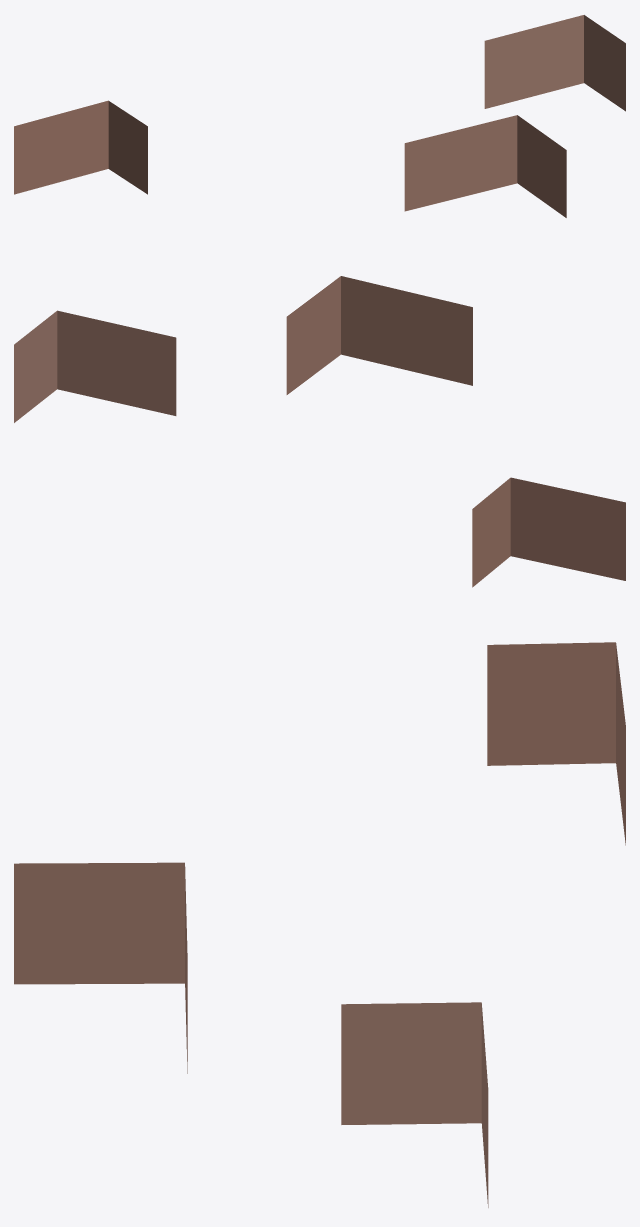
Rendered from c_1627_17831_buildings_residential.glb.
3 views of the same model, one above another, from view 1: azimuth 30°, elevation 25°; view 2: azimuth 150°, elevation 25°; view 3: azimuth 270°, elevation 25° (orthographic). The views are drawn at different scales.
Parts seen in each view (by area): view 1: geometry_0; view 2: geometry_0; view 3: geometry_0.
Boxes of the visible parts, box(x1,y1,x2,y2) form: geometry_0: box(14, 15, 625, 217); geometry_0: box(14, 276, 625, 587); geometry_0: box(14, 642, 625, 1207).
Bounding box in the file's own units: 78.02 × 10.65 × 43.57.
